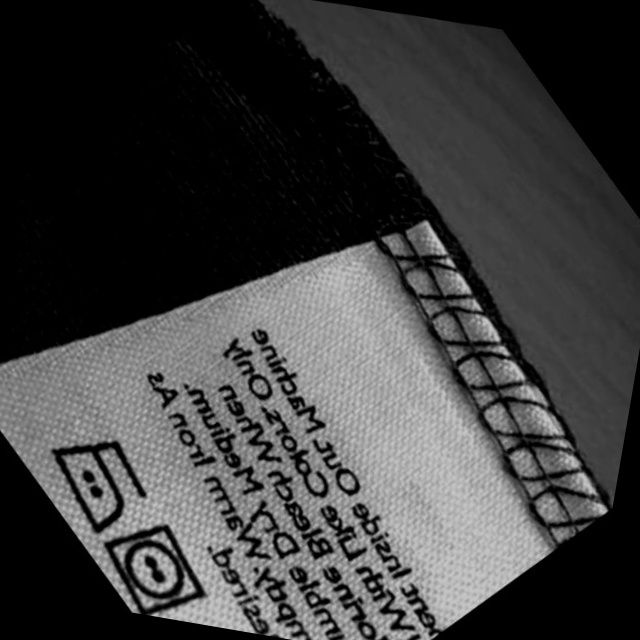iron_medium: (33, 428, 153, 537)
tumble_dry_medium: (91, 516, 214, 622)
